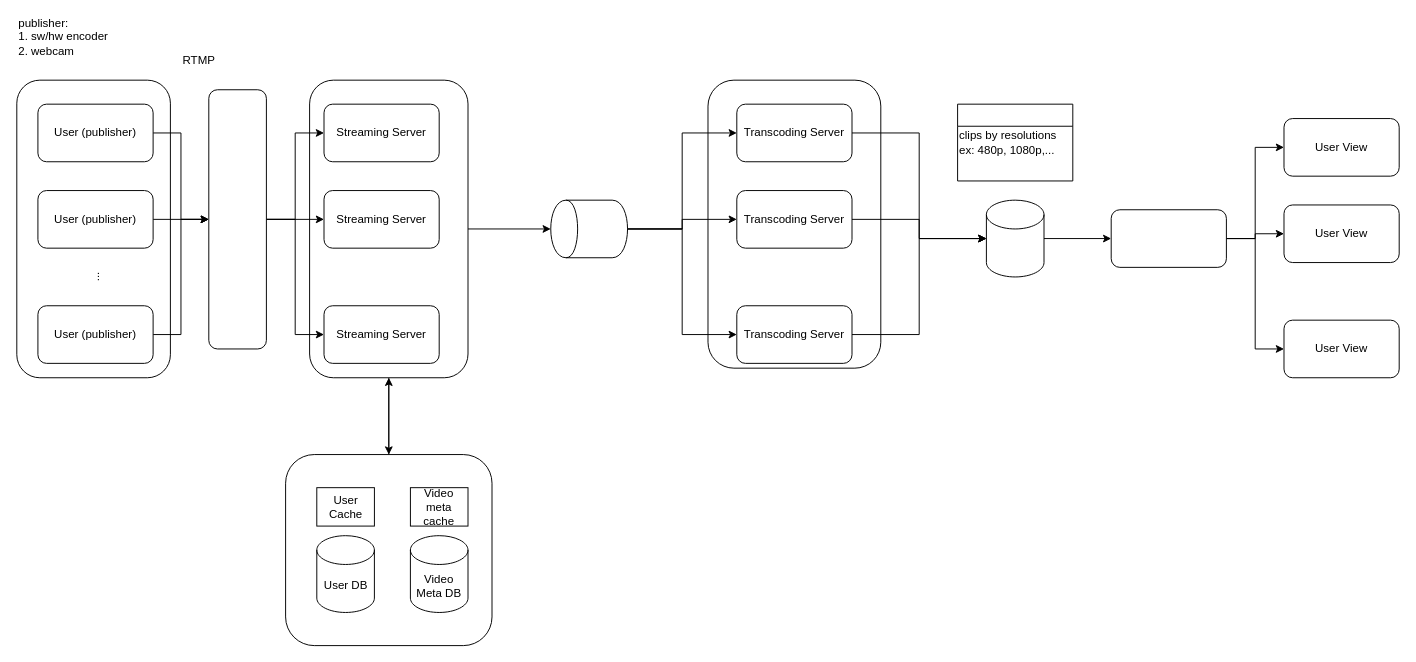
Image size: 1416x662. Some labels were removed from this diagram. The box of each missing label's shape, as (x1, y1, x2, y2) in pixels:
CDN (ex: cloudfront): (1110, 209, 1226, 267)
LB: (208, 89, 266, 349)
Media info: (957, 103, 1073, 181)
Media Storage: (985, 199, 1044, 277)
Task Queue: (550, 199, 628, 258)
